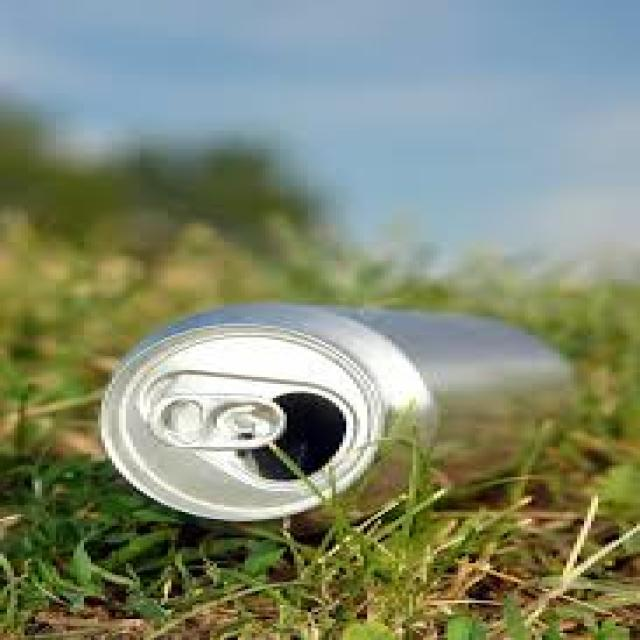can: (73, 278, 606, 548)
